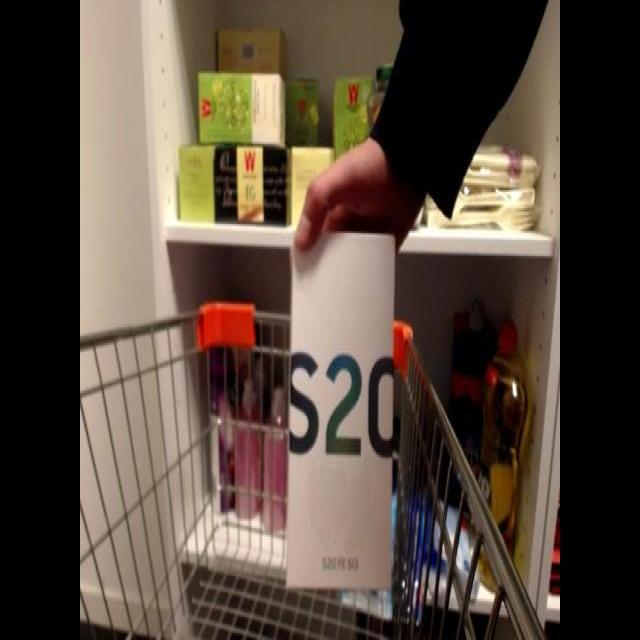Samsung S20: (282, 218, 402, 594)
